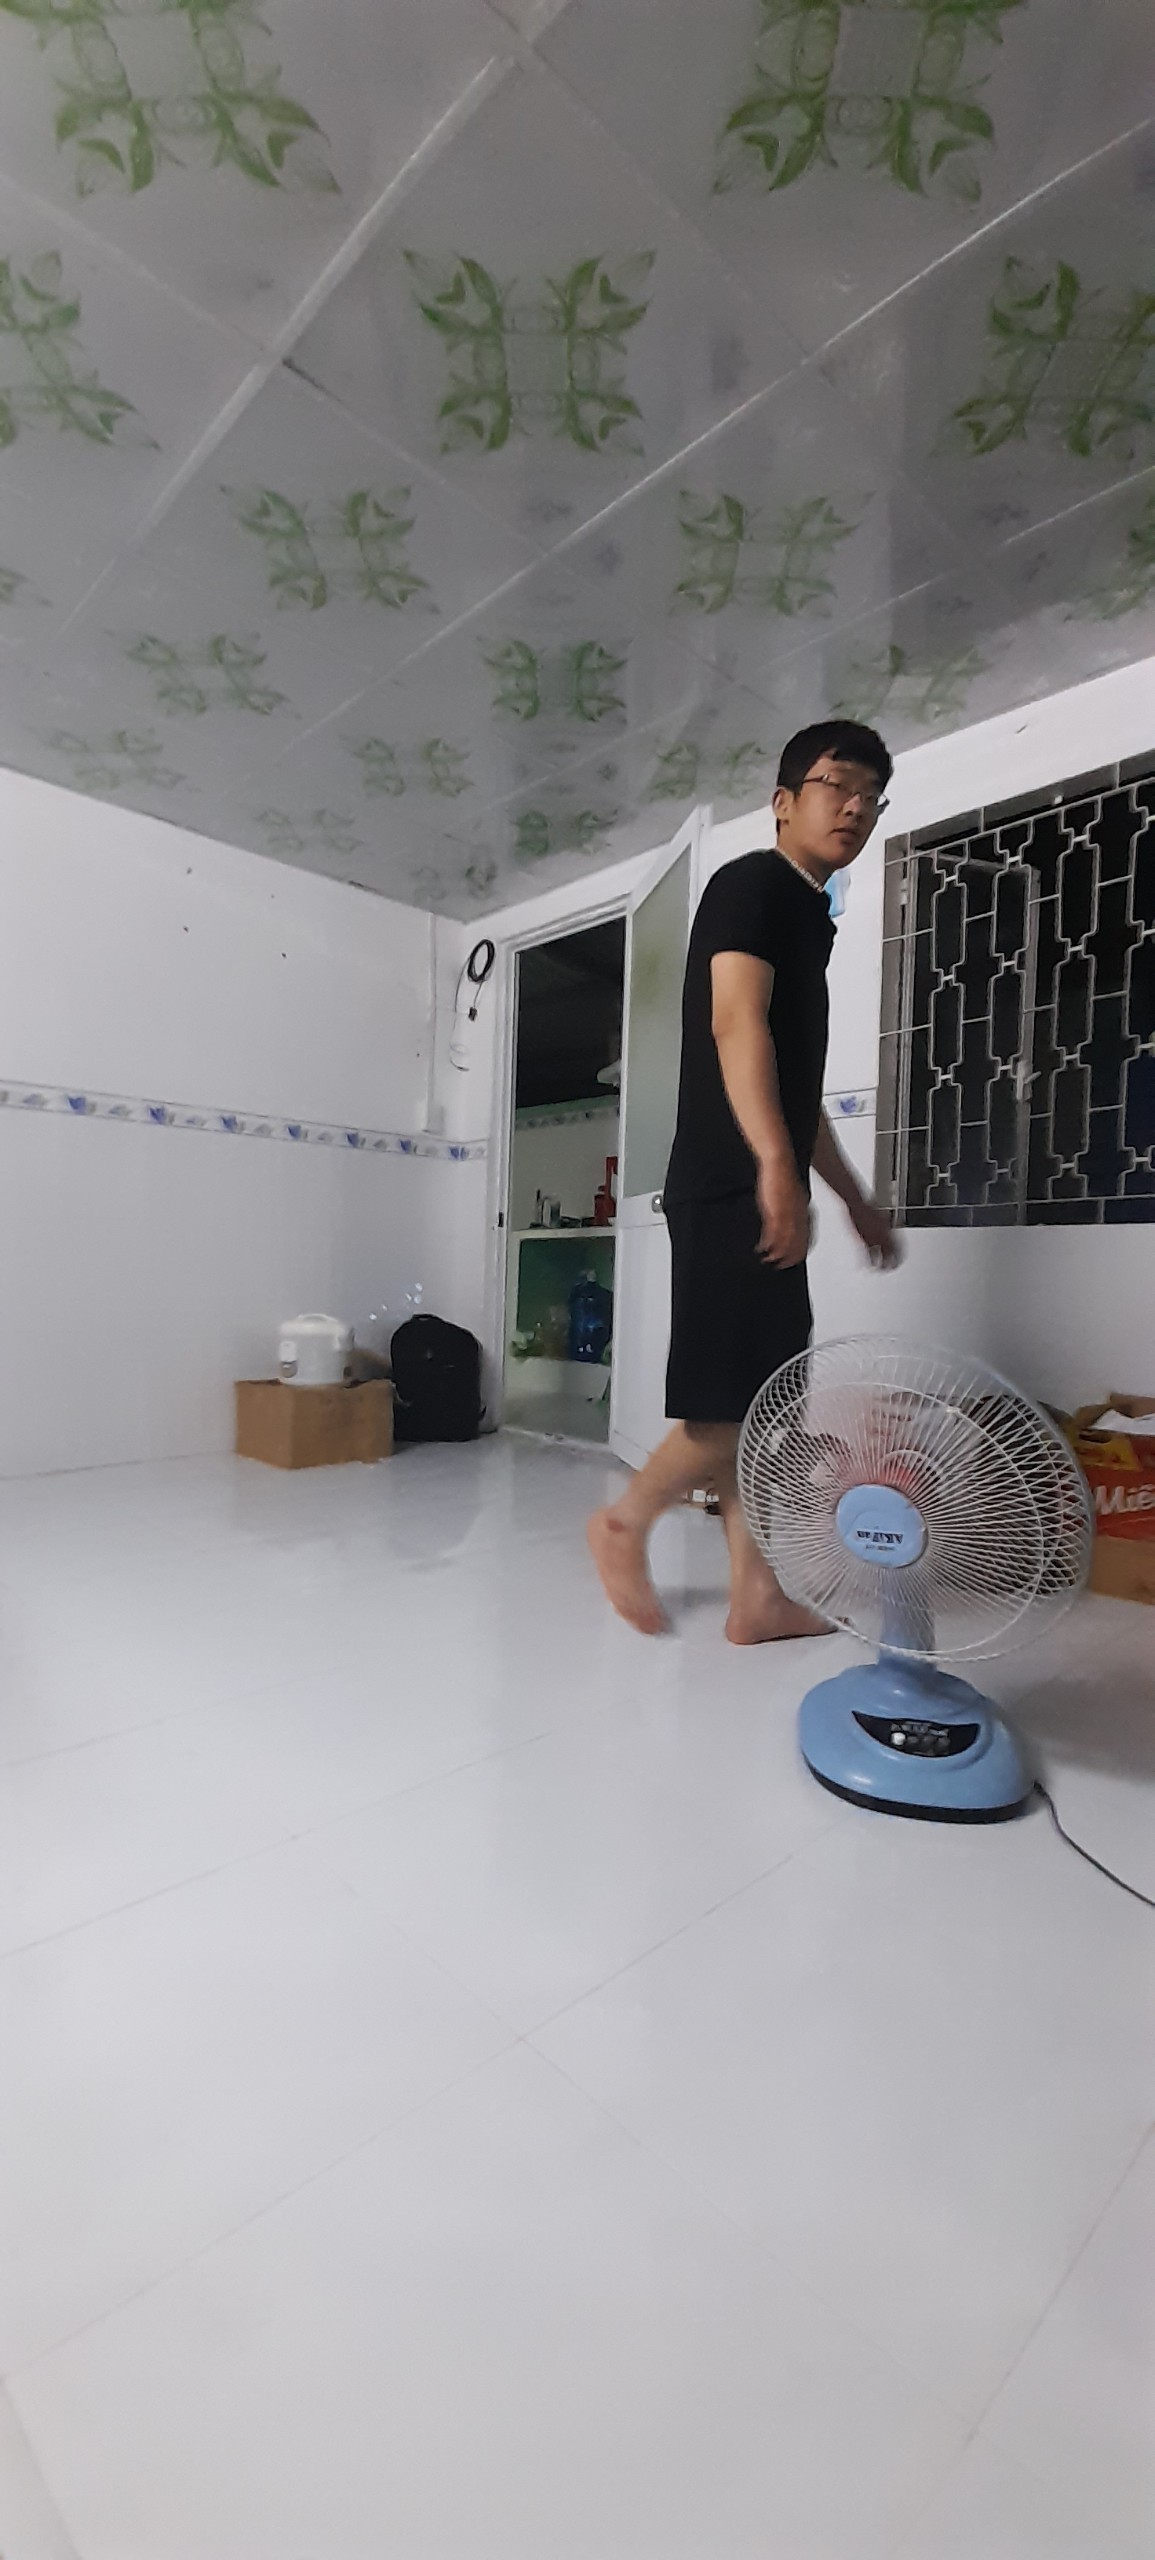person: (673, 714, 895, 1627)
